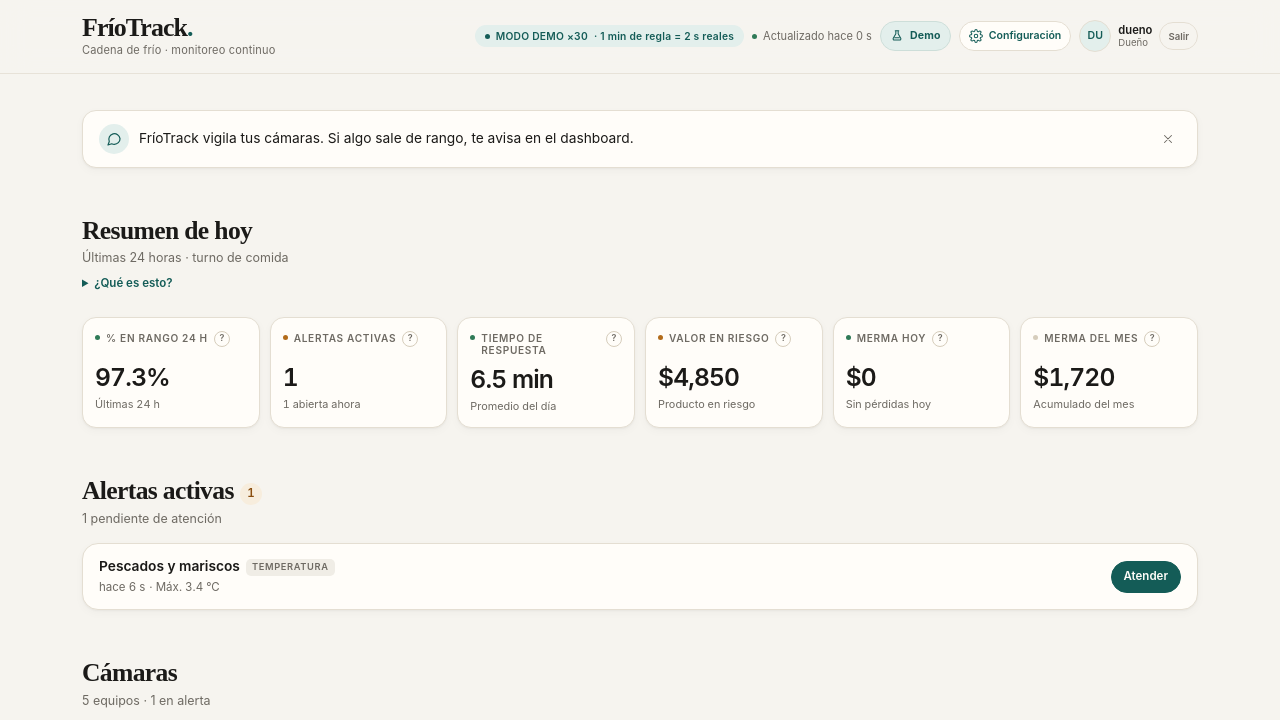
Test case: vista general › muestra el panel demo al dueño del tenant demo
Click the button with aria-label "Abrir panel de demo": point(915, 36) [880, 21, 951, 51]
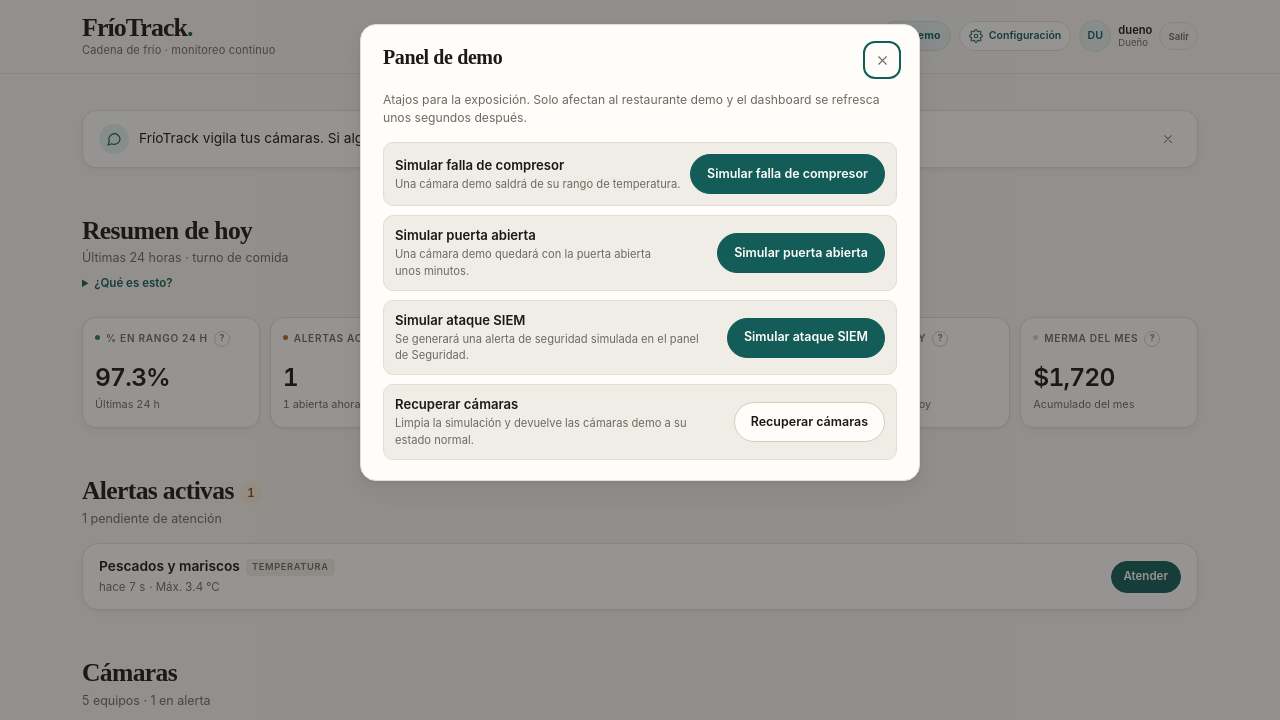
Expected: the dialog "Panel de demo" is shown, [360, 24, 920, 481]
